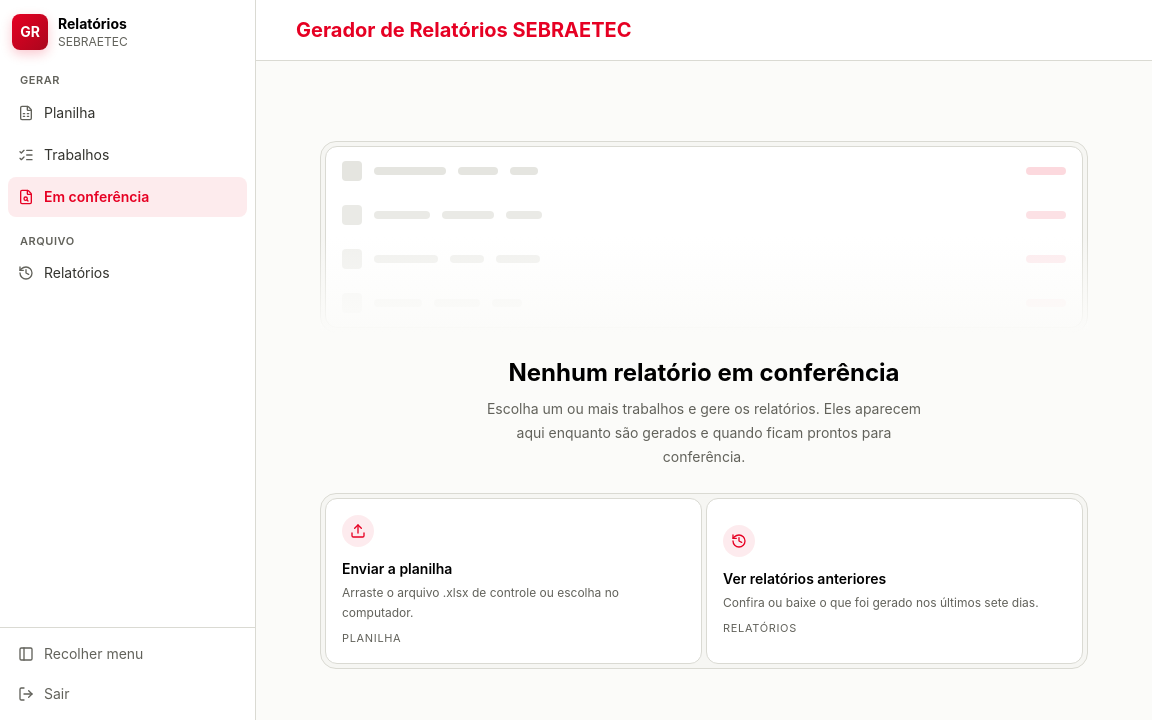
Test case: free movement, empty states and notifications › opens the review step with nothing generated and points back to the start
This screenshot has width=1152, height=720.
Expected: the heading "Nenhum relatório em conferência" is shown, [508,358,900,387]
Click the button "Enviar a planilha" at (358, 531), box [325,498,702,664]
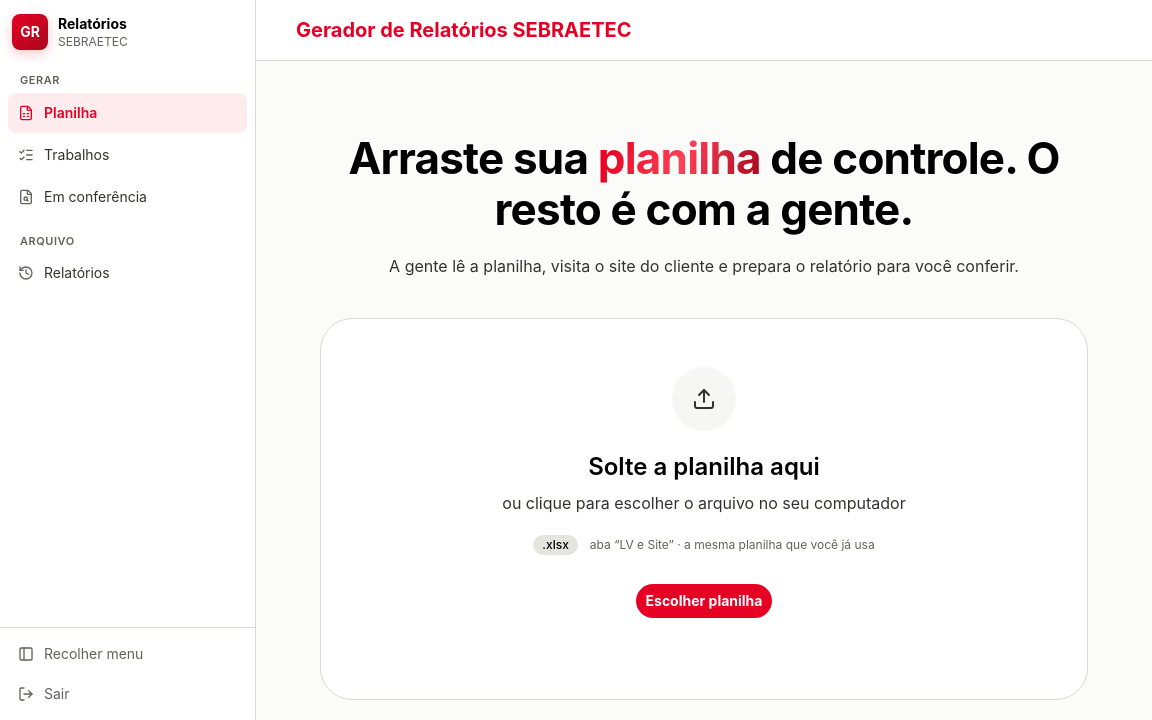
Result: the element with test id "control-sheet-dropzone" is shown at [320,318,1088,700]
